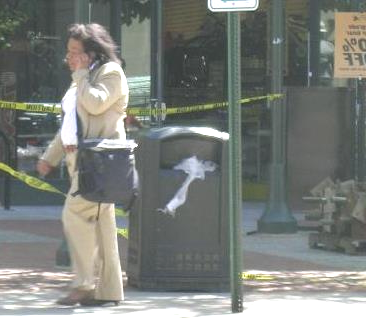pedestrian: (38, 23, 138, 307)
